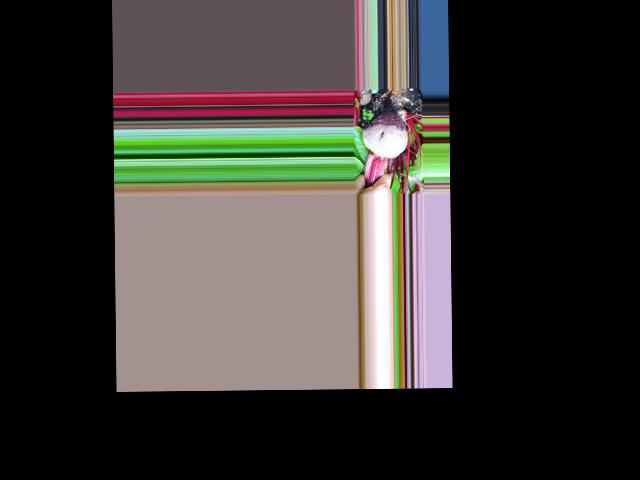beet: (361, 87, 408, 187)
